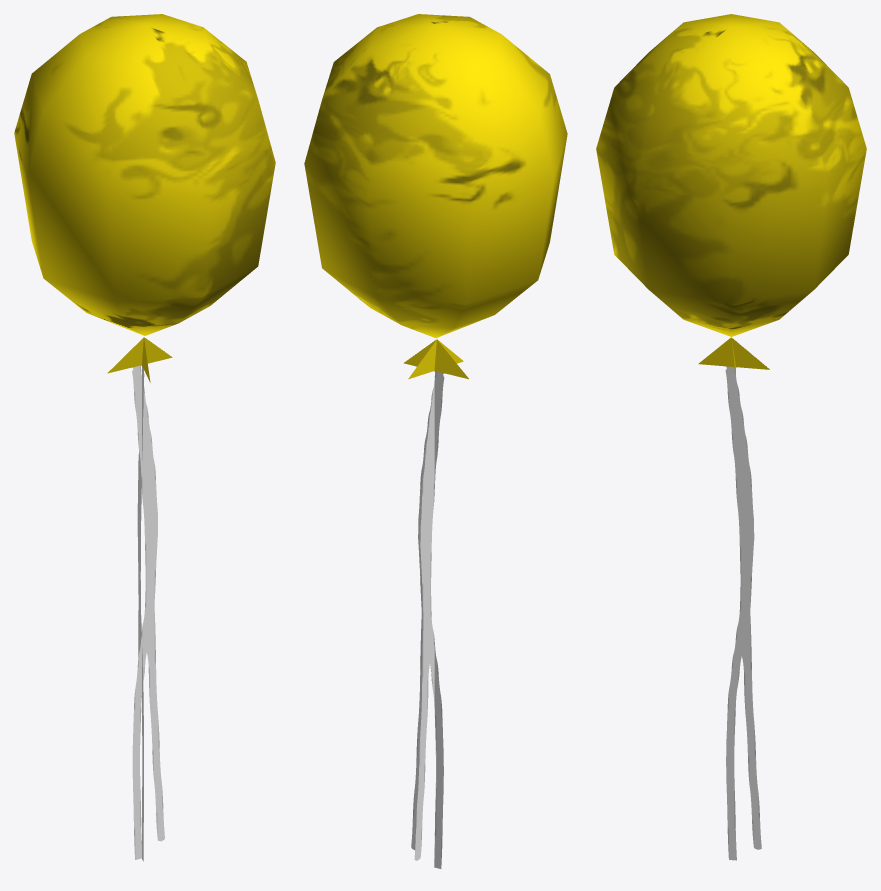
Rendered from Ballon02.fbx.
The picture shows the model from 3 angles, left to right: view 1: azimuth 30°, elevation 25°; view 2: azimuth 150°, elevation 25°; view 3: azimuth 270°, elevation 25°; orthographic projection.
Parts seen in each view (by area): view 1: Balloon02; view 2: Balloon02; view 3: Balloon02.
Part boxes in pixels (x1,y1,x2,y2): Balloon02: [14, 14, 275, 861]; Balloon02: [304, 14, 567, 868]; Balloon02: [596, 14, 866, 860].
Bounding box in the file's own units: 0.1017 × 0.3468 × 0.1017.
